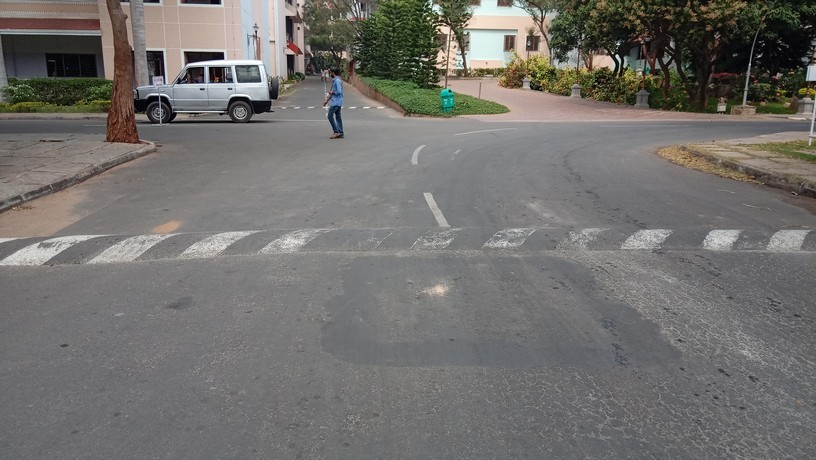bump: (1, 225, 816, 270)
